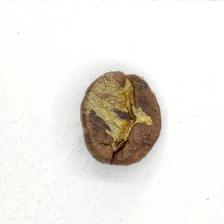NG: (87, 71, 154, 158)
